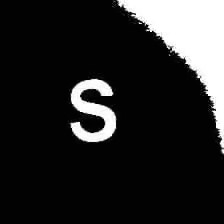LTR_S: (65, 71, 121, 145)
